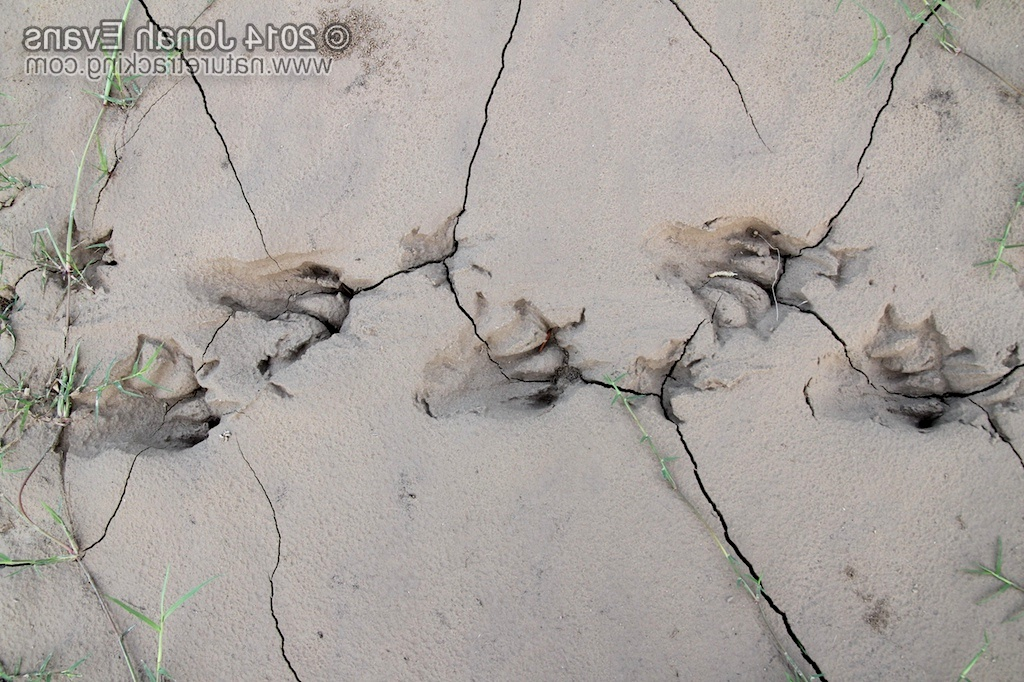beaver: (23, 336, 229, 525), (382, 293, 602, 454), (793, 304, 1020, 451), (659, 203, 878, 341), (152, 241, 415, 348)
